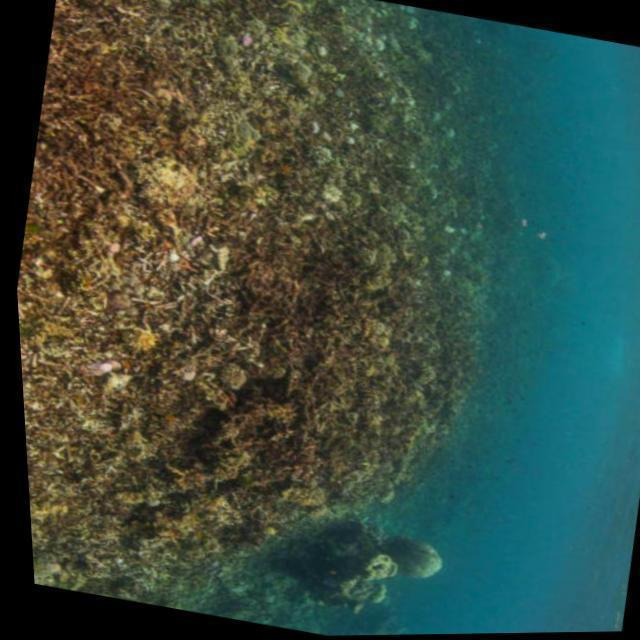Dead Coral: (0, 0, 522, 613)
